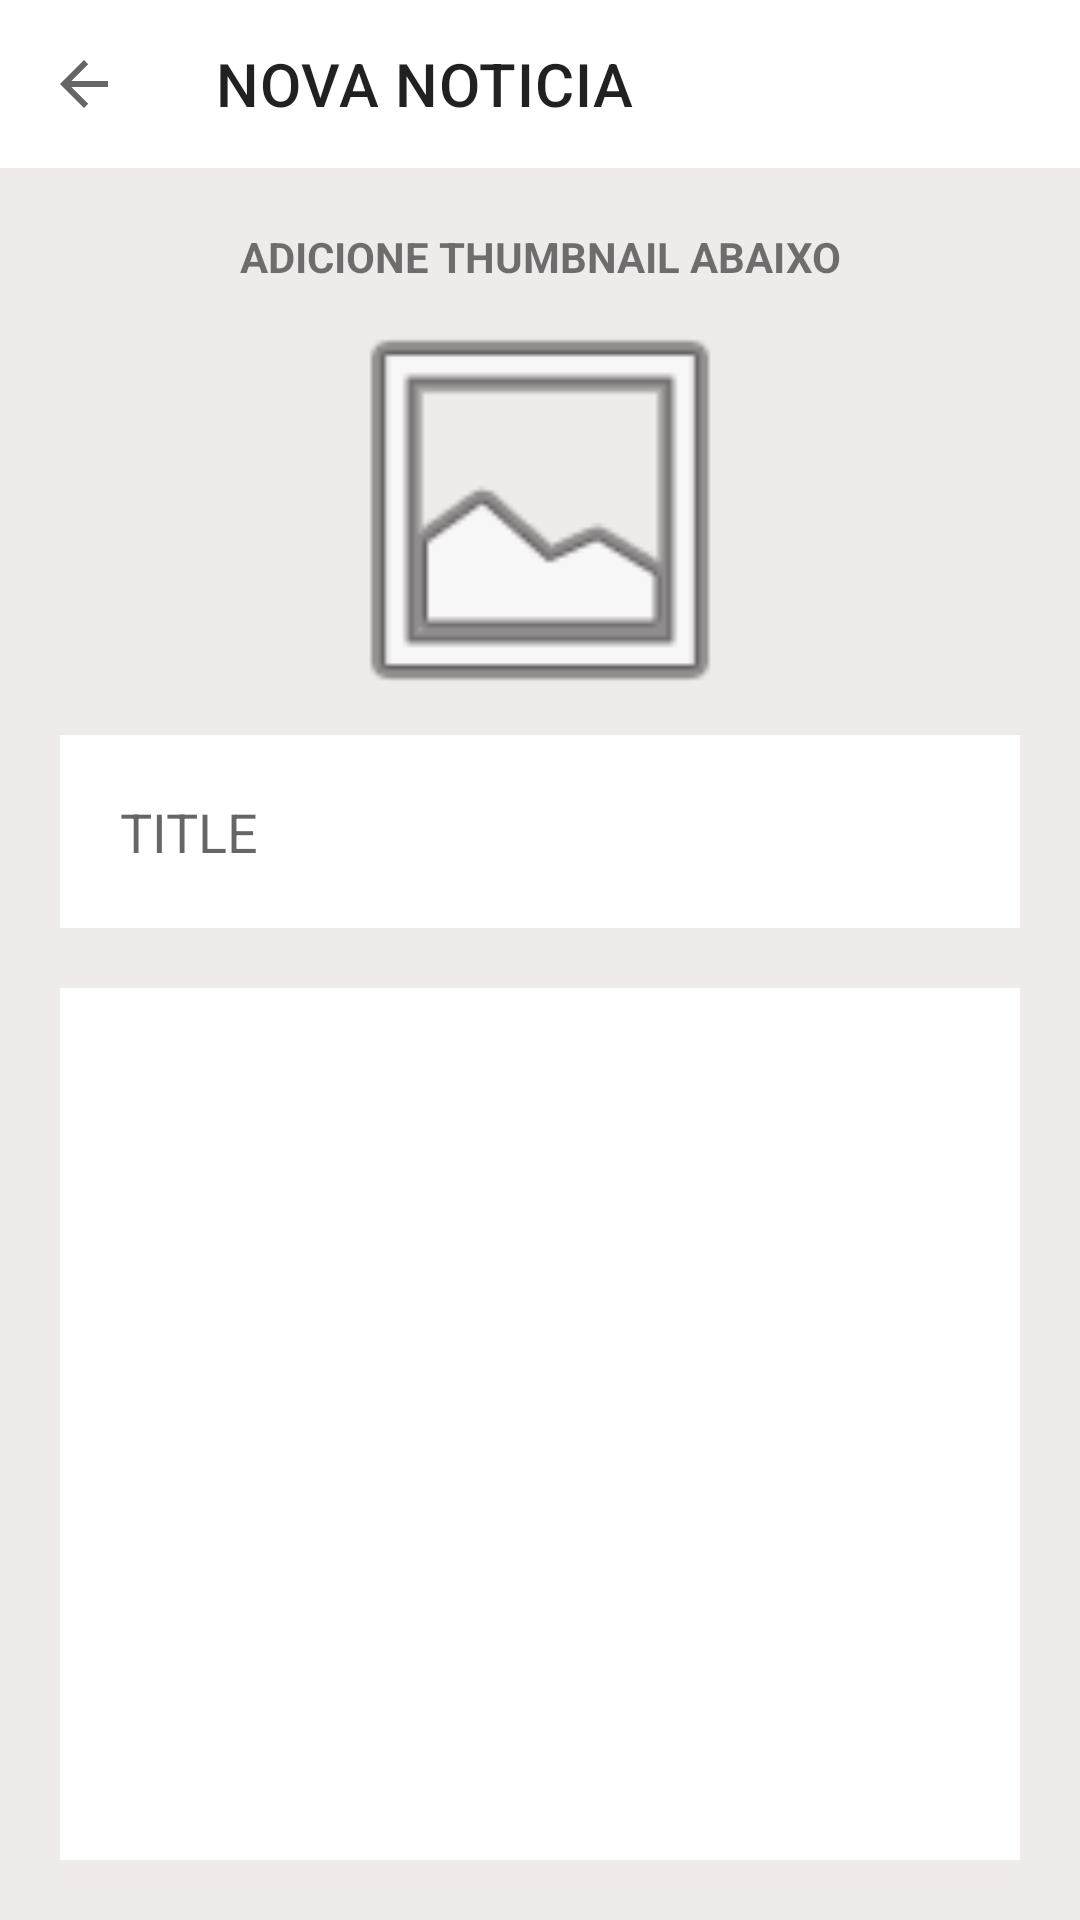

Named icons in this screenshot (1080 x 1920) and their bounding boxes, (x1, y1, x2, y2):
gallery: (369, 339, 711, 681)
